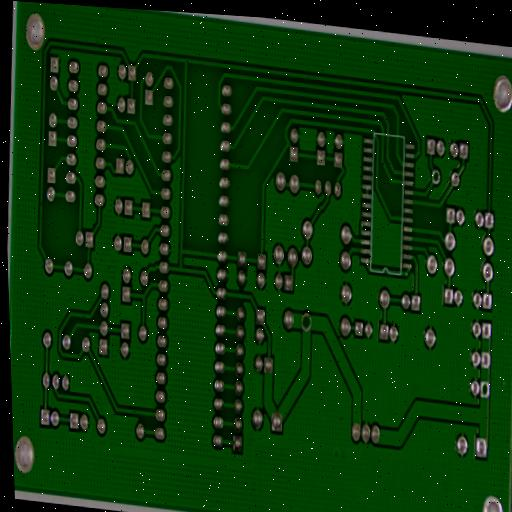missing_hole: (300, 311, 313, 335), (431, 169, 442, 190), (480, 380, 491, 401)
